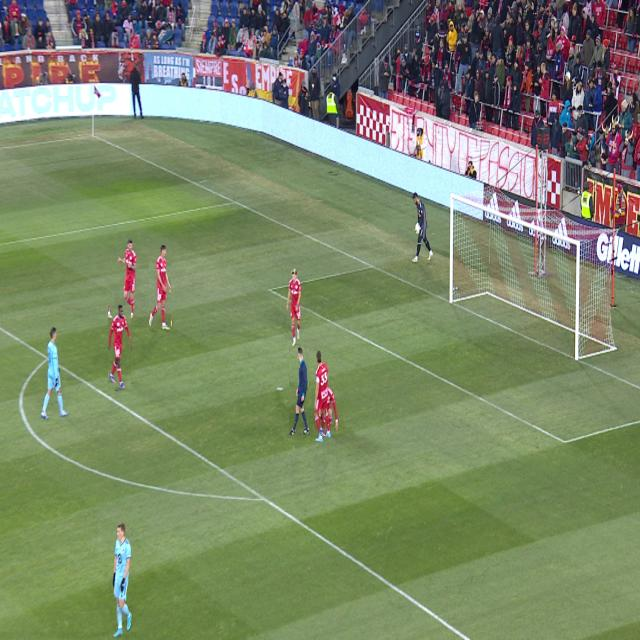player: (41, 327, 68, 419), (114, 525, 134, 640), (109, 305, 131, 389), (150, 246, 171, 331), (314, 350, 331, 442), (118, 239, 137, 319), (286, 269, 301, 347), (327, 385, 338, 431), (320, 408, 326, 436)
referee: (290, 347, 309, 435)
